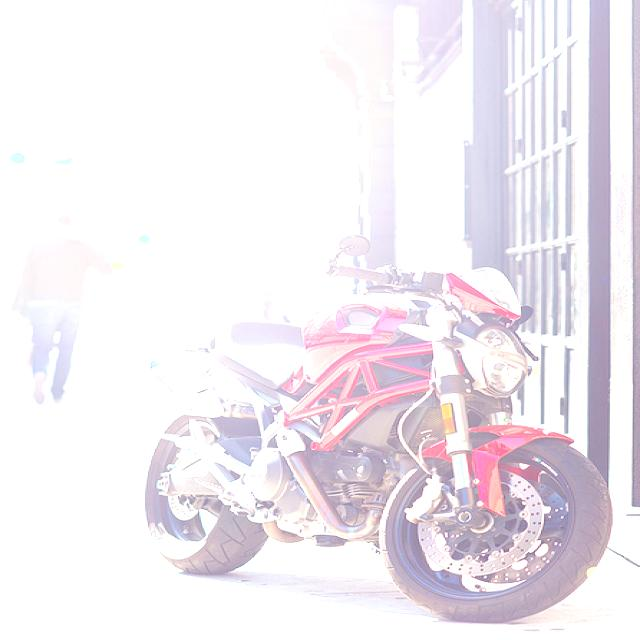Vehicle: (140, 235, 616, 622)
